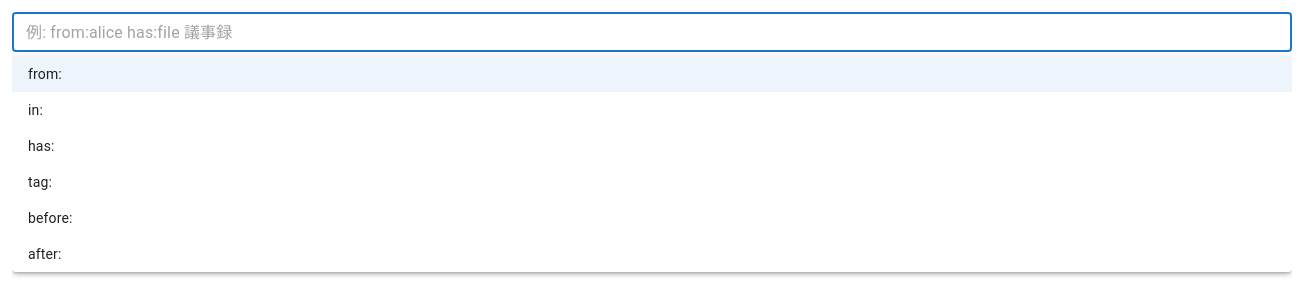
Test case: ChipFilterInput (Step 7c-1) › 検索構文オートコンプリート (Issue #326) › 構文キーワード候補の表示 › "fr" のように前方一致する構文だけに候補が絞り込まれる
Type "fr" into the field named "メッセージ検索" at (652,32), box x1=12 y1=12 x2=1292 y2=52
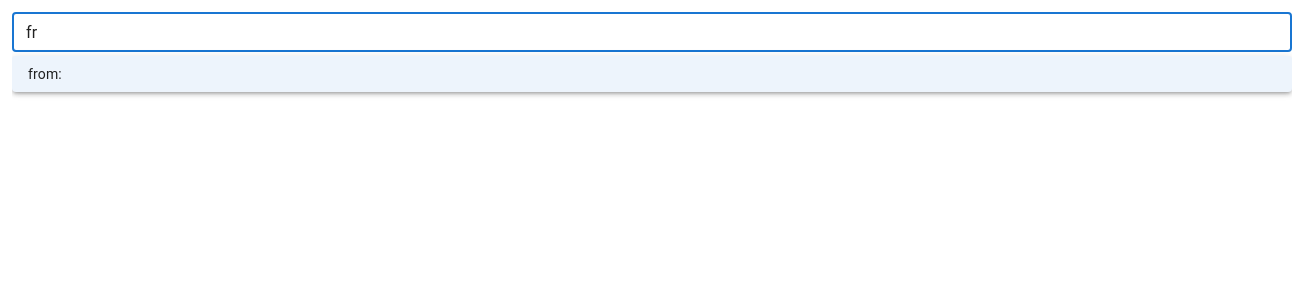
Expected: the option "from:" is shown, x1=12 y1=56 x2=1292 y2=92
Result: the option "in:" is gone
